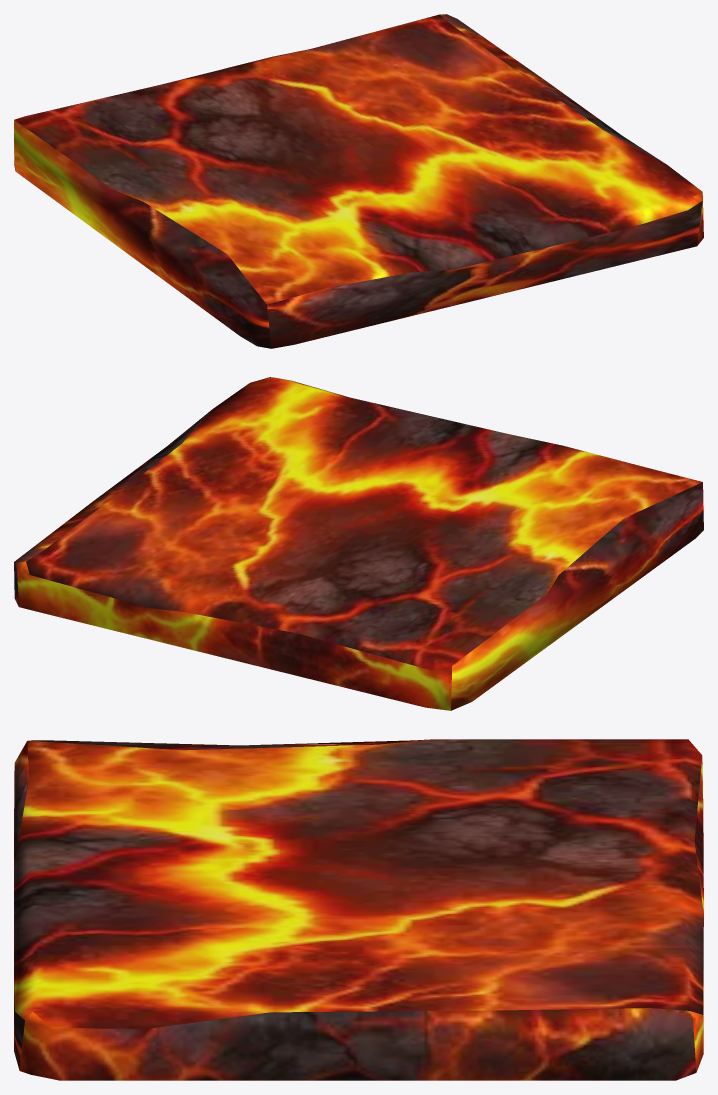
File: lavaTileSquare.glb
3 views of the same model, one above another, from view 1: azimuth 30°, elevation 25°; view 2: azimuth 150°, elevation 25°; view 3: azimuth 270°, elevation 25° (orthographic). The views are drawn at different scales.
Parts seen in each view (by area): view 1: Tile2_02; view 2: Tile2_02; view 3: Tile2_02.
Boxes of the visible parts, bbox=[...] form: Tile2_02: bbox=[14, 14, 703, 348]; Tile2_02: bbox=[14, 377, 703, 710]; Tile2_02: bbox=[14, 739, 703, 1080].
Bounding box in the file's own units: 200 × 19.64 × 200.
2 materials, 2 textured.
